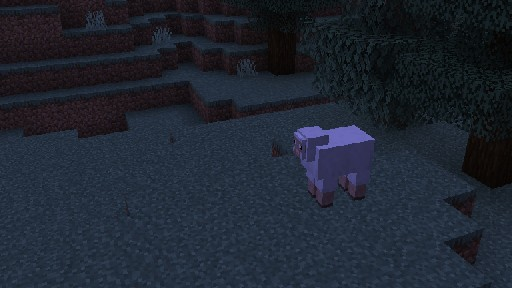sheep: (292, 124, 375, 208)
